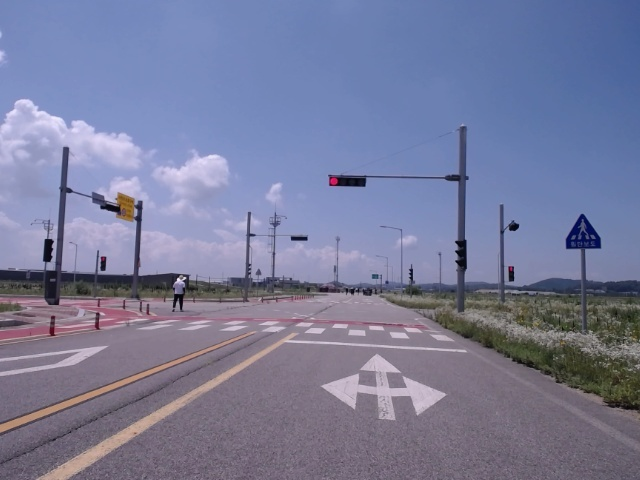red_4: (329, 176, 366, 187)
